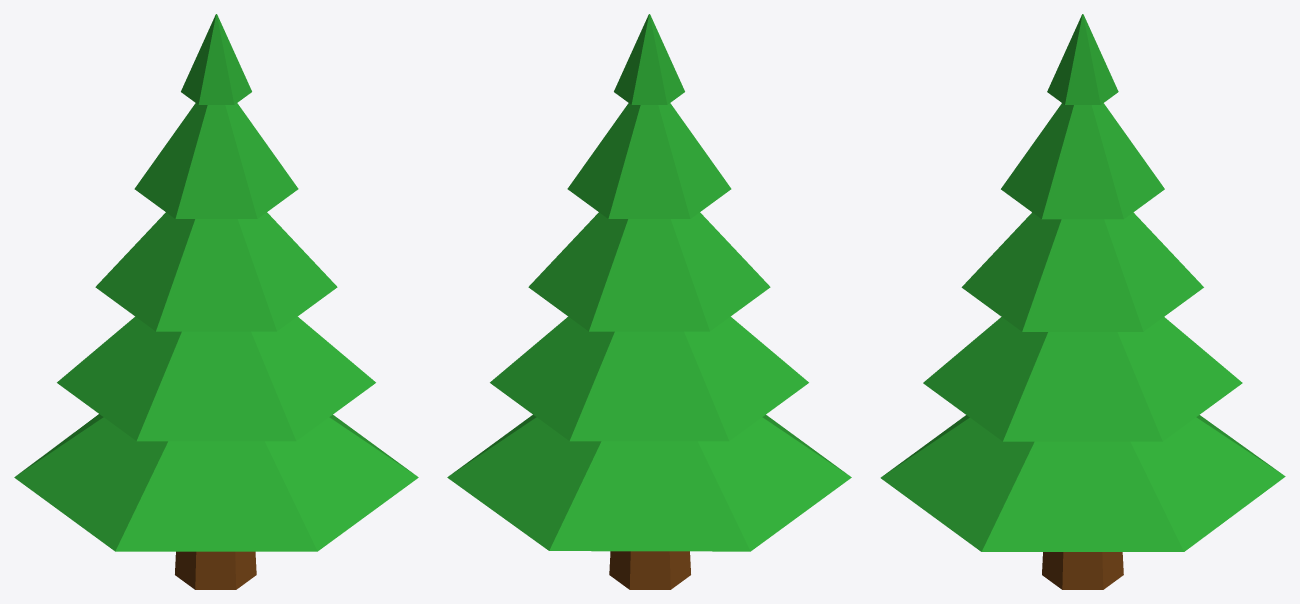
Rendered from gran_tree_improved.fbx.
3 views of the same model, side by side, from view 1: azimuth 30°, elevation 25°; view 2: azimuth 150°, elevation 25°; view 3: azimuth 270°, elevation 25° (orthographic).
Parts seen in each view (by area): view 1: Cylinder, Cylinder.001; view 2: Cylinder, Cylinder.001; view 3: Cylinder, Cylinder.001.
Boxes of the visible parts, x1,y1,x2,y2 form: Cylinder: [14, 14, 418, 551]; Cylinder.001: [175, 551, 256, 589]; Cylinder: [447, 14, 851, 551]; Cylinder.001: [609, 551, 690, 589]; Cylinder: [880, 14, 1285, 551]; Cylinder.001: [1042, 552, 1123, 589].
Bounding box in the file's own units: 332 × 586 × 384.
